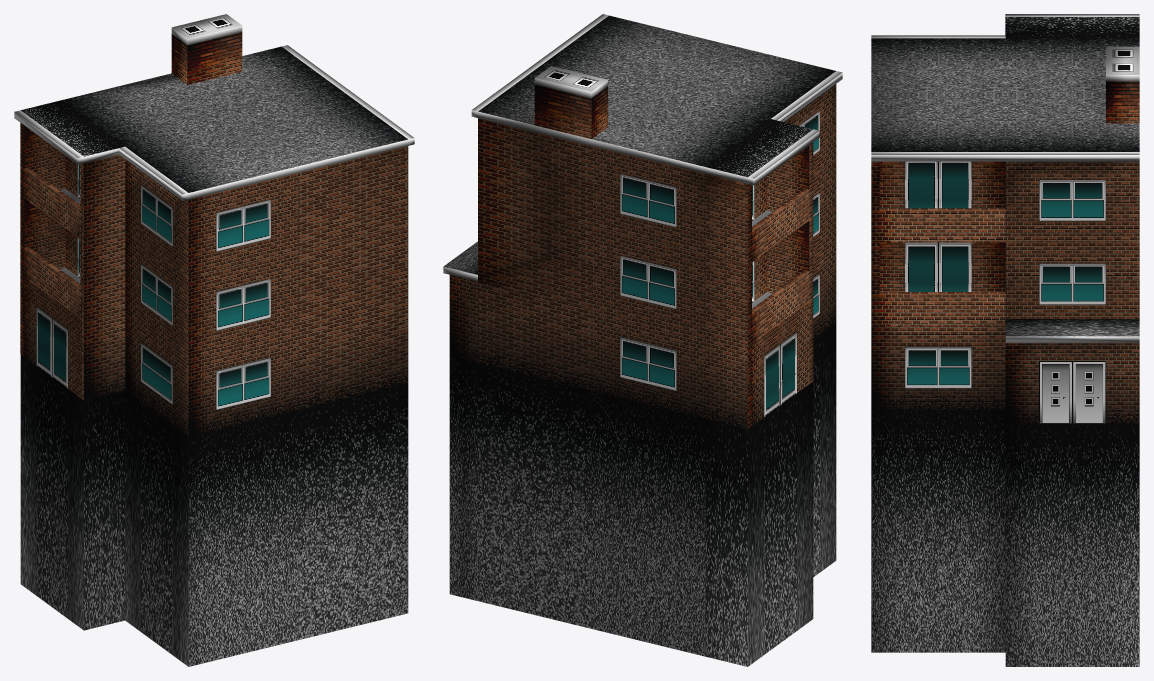
The model's file is maisonet_mod3_1a.fbx.
3 renders of one model, left to right at view 1: azimuth 30°, elevation 25°; view 2: azimuth 150°, elevation 25°; view 3: azimuth 270°, elevation 25°, orthographic. The views are drawn at different scales.
Parts seen in each view (by area): view 1: maisonet_mod3_1a; view 2: maisonet_mod3_1a; view 3: maisonet_mod3_1a.
Boxes of the visible parts, x1,y1,x2,y2 form: maisonet_mod3_1a: (14,14,414,666); maisonet_mod3_1a: (443,14,842,666); maisonet_mod3_1a: (871,14,1139,666).
Size of the model in its own units: 1231 by 2033 by 900.
